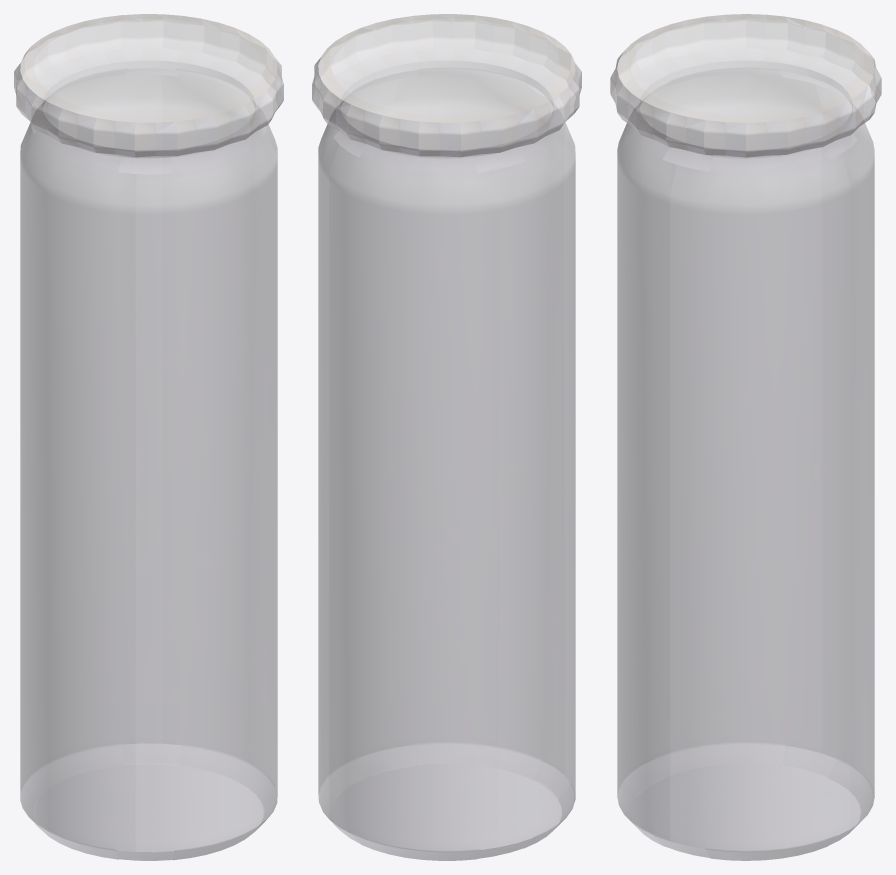
The model's file is kav2_3.glb.
3 views of the same model, side by side, from view 1: azimuth 30°, elevation 25°; view 2: azimuth 150°, elevation 25°; view 3: azimuth 270°, elevation 25° (orthographic).
Visible parts, largest first — view 1: kav2_3; view 2: kav2_3; view 3: kav2_3.
Part boxes in pixels (bbox=[...]): kav2_3: bbox=[14, 14, 283, 860]; kav2_3: bbox=[312, 14, 581, 860]; kav2_3: bbox=[610, 14, 881, 860].
Bounding box in the file's own units: 1.53 × 4.65 × 1.53.
Materials: 1 (1 with a texture image).
